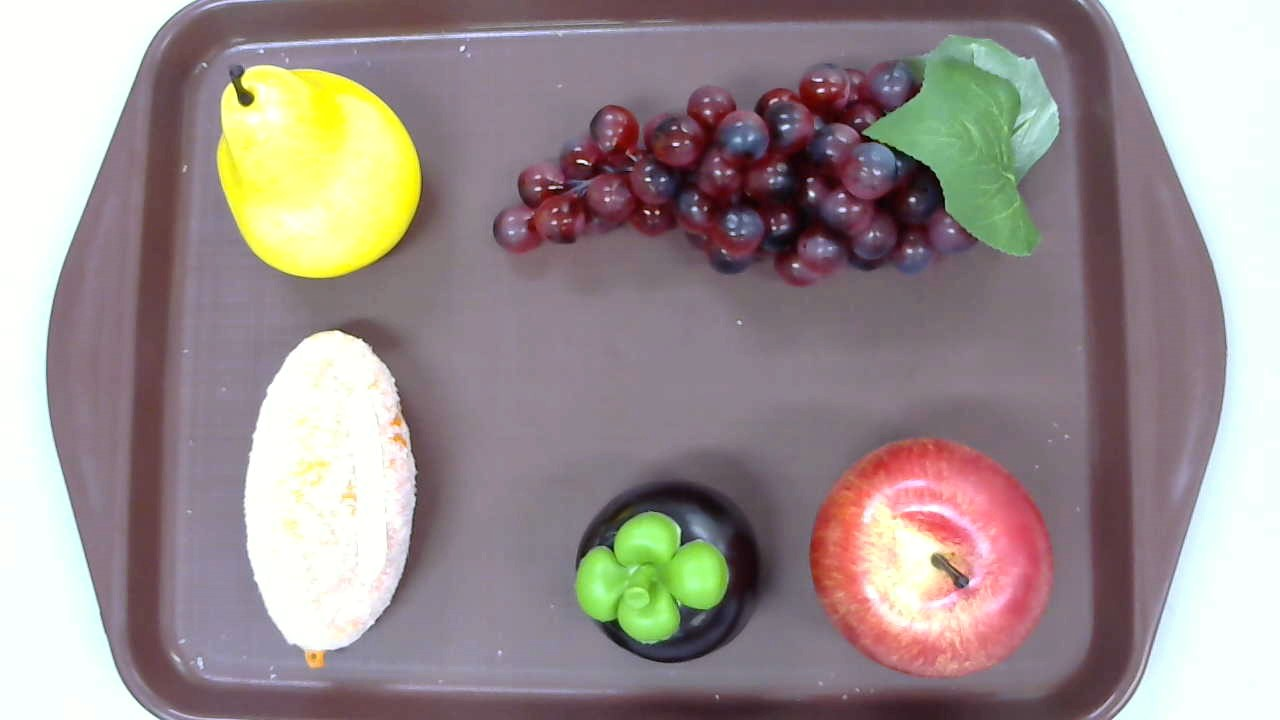coconut: (242, 330, 417, 670)
grape: (491, 33, 1060, 287)
mangosteen: (575, 478, 761, 665)
red apple: (810, 438, 1053, 680)
yellow pear: (217, 62, 422, 279)
